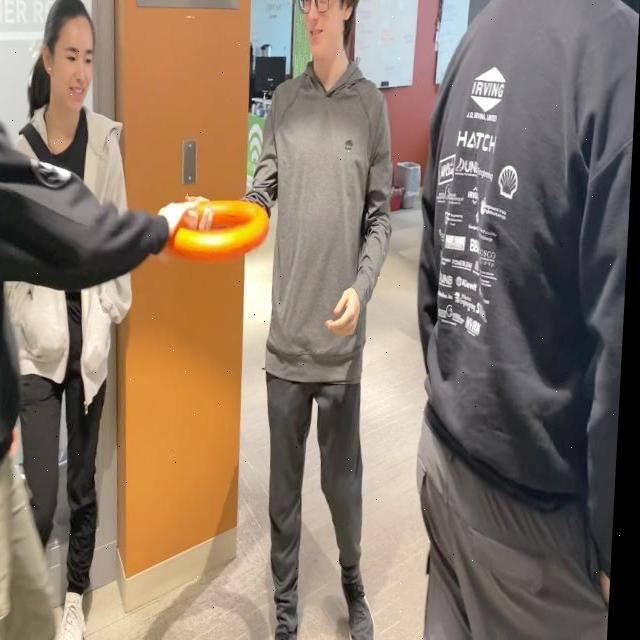note: (160, 192, 277, 263)
